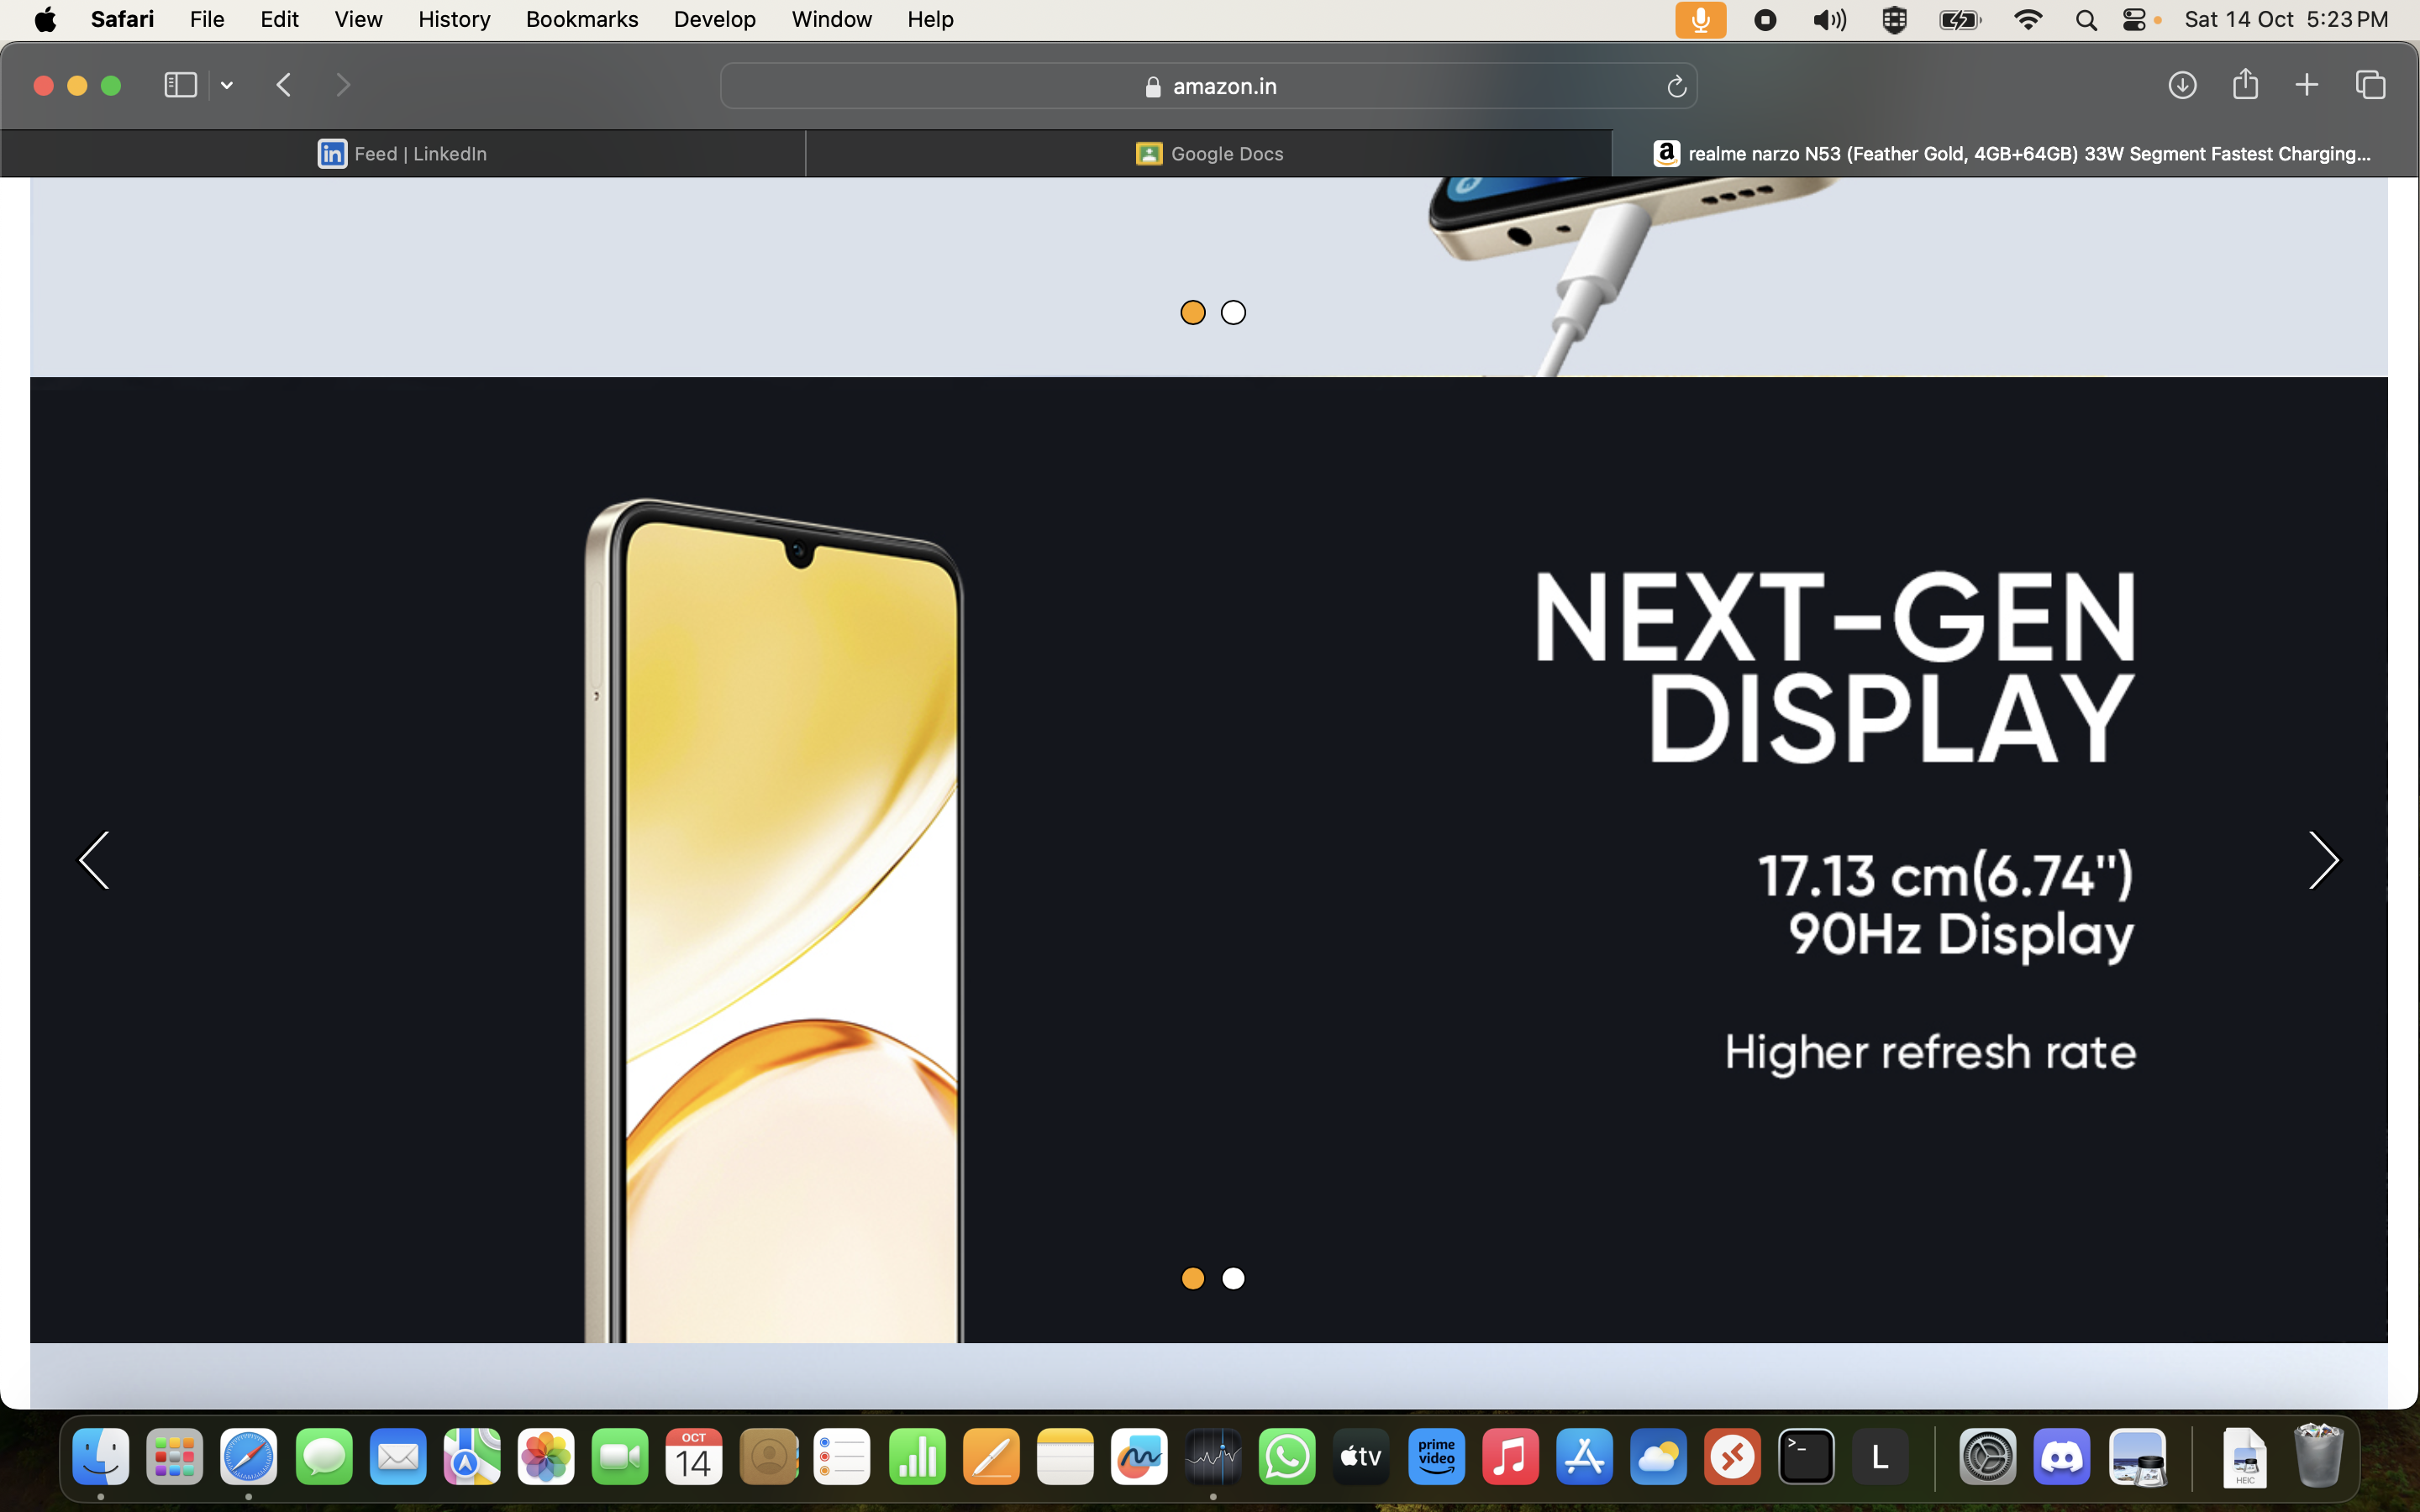Image: (570, 481, 984, 1360)
Paragraph: (1465, 566, 2174, 782), (1714, 822, 2167, 977), (1725, 1012, 2157, 1108)
